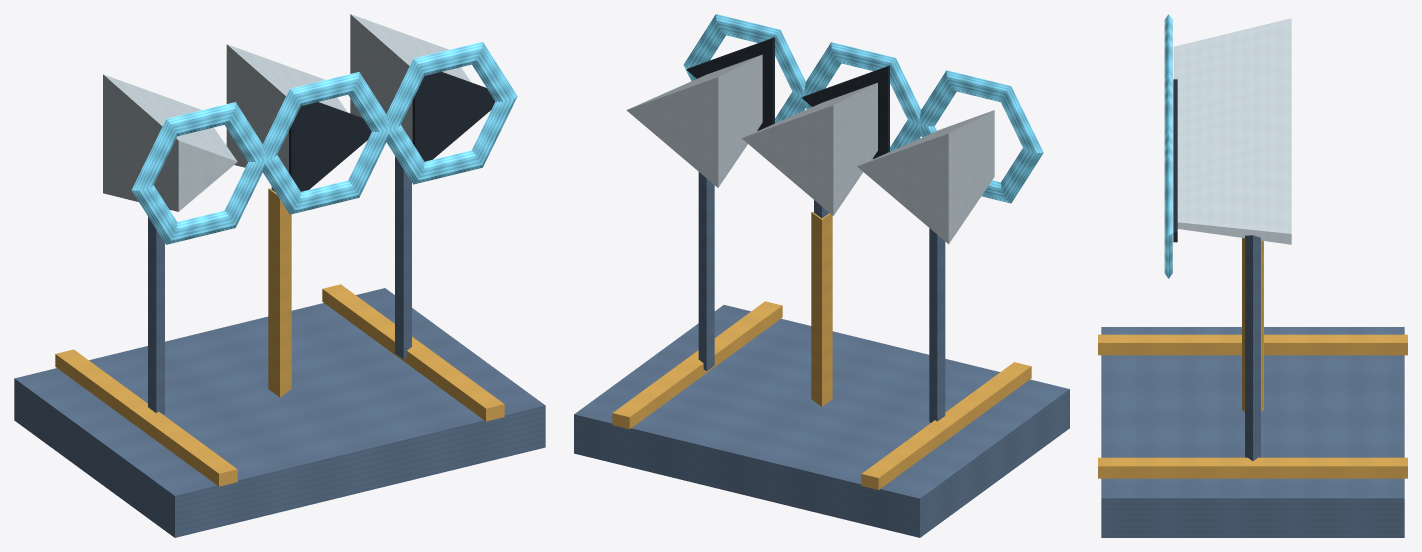
File: atlas100-s056-a02.lod2.glb
3 renders of one model, left to right at view 1: azimuth 30°, elevation 25°; view 2: azimuth 150°, elevation 25°; view 3: azimuth 270°, elevation 25°, orthographic. The views are drawn at different scales.
Parts seen in each view (by area): view 1: atlas100-s056-a02:part-000, atlas100-s056-a02:part-006, atlas100-s056-a02:part-008, atlas100-s056-a02:part-016, atlas100-s056-a02:part-012, atlas100-s056-a02:part-001, atlas100-s056-a02:part-010, atlas100-s056-a02:part-002, atlas100-s056-a02:part-014, atlas100-s056-a02:part-015, atlas100-s056-a02:part-011, atlas100-s056-a02:part-003 (+2 smaller); view 2: atlas100-s056-a02:part-000, atlas100-s056-a02:part-006, atlas100-s056-a02:part-014, atlas100-s056-a02:part-010, atlas100-s056-a02:part-008, atlas100-s056-a02:part-001, atlas100-s056-a02:part-002, atlas100-s056-a02:part-003, atlas100-s056-a02:part-016, atlas100-s056-a02:part-012, atlas100-s056-a02:part-013, atlas100-s056-a02:part-005 (+2 smaller); view 3: atlas100-s056-a02:part-000, atlas100-s056-a02:part-014, atlas100-s056-a02:part-002, atlas100-s056-a02:part-006, atlas100-s056-a02:part-010, atlas100-s056-a02:part-001, atlas100-s056-a02:part-013, atlas100-s056-a02:part-016, atlas100-s056-a02:part-003, atlas100-s056-a02:part-015, atlas100-s056-a02:part-008, atlas100-s056-a02:part-012.
Boxes of the visible parts, x1,y1,x2,y2 form: atlas100-s056-a02:part-000: [14, 288, 545, 537]; atlas100-s056-a02:part-006: [103, 74, 237, 211]; atlas100-s056-a02:part-008: [131, 102, 266, 244]; atlas100-s056-a02:part-016: [386, 41, 517, 184]; atlas100-s056-a02:part-012: [263, 72, 389, 214]; atlas100-s056-a02:part-001: [55, 349, 237, 486]; atlas100-s056-a02:part-010: [226, 44, 347, 172]; atlas100-s056-a02:part-002: [322, 284, 504, 421]; atlas100-s056-a02:part-014: [350, 14, 470, 142]; atlas100-s056-a02:part-015: [412, 72, 495, 161]; atlas100-s056-a02:part-011: [289, 102, 371, 191]; atlas100-s056-a02:part-003: [268, 188, 291, 397]; atlas100-s056-a02:part-000: [574, 305, 1069, 537]; atlas100-s056-a02:part-006: [857, 110, 994, 244]; atlas100-s056-a02:part-014: [626, 54, 762, 187]; atlas100-s056-a02:part-010: [742, 82, 877, 215]; atlas100-s056-a02:part-008: [919, 70, 1043, 203]; atlas100-s056-a02:part-001: [861, 362, 1031, 489]; atlas100-s056-a02:part-002: [612, 301, 782, 429]; atlas100-s056-a02:part-003: [811, 212, 832, 406]; atlas100-s056-a02:part-016: [683, 14, 805, 131]; atlas100-s056-a02:part-012: [802, 42, 920, 159]; atlas100-s056-a02:part-013: [698, 172, 714, 371]; atlas100-s056-a02:part-005: [929, 228, 945, 422]; atlas100-s056-a02:part-000: [1101, 327, 1404, 537]; atlas100-s056-a02:part-014: [1177, 132, 1291, 244]; atlas100-s056-a02:part-002: [1098, 457, 1407, 478]; atlas100-s056-a02:part-006: [1173, 18, 1291, 102]; atlas100-s056-a02:part-010: [1177, 75, 1291, 159]; atlas100-s056-a02:part-001: [1098, 334, 1407, 355]; atlas100-s056-a02:part-013: [1245, 235, 1260, 460]; atlas100-s056-a02:part-016: [1164, 128, 1172, 278]; atlas100-s056-a02:part-003: [1242, 238, 1263, 411]; atlas100-s056-a02:part-015: [1173, 136, 1177, 242]; atlas100-s056-a02:part-008: [1164, 14, 1172, 76]; atlas100-s056-a02:part-012: [1164, 71, 1172, 133].
Bounding box in the file's own units: 2.5 × 2.39 × 1.84.
Materials: 5 (5 with a texture image).
